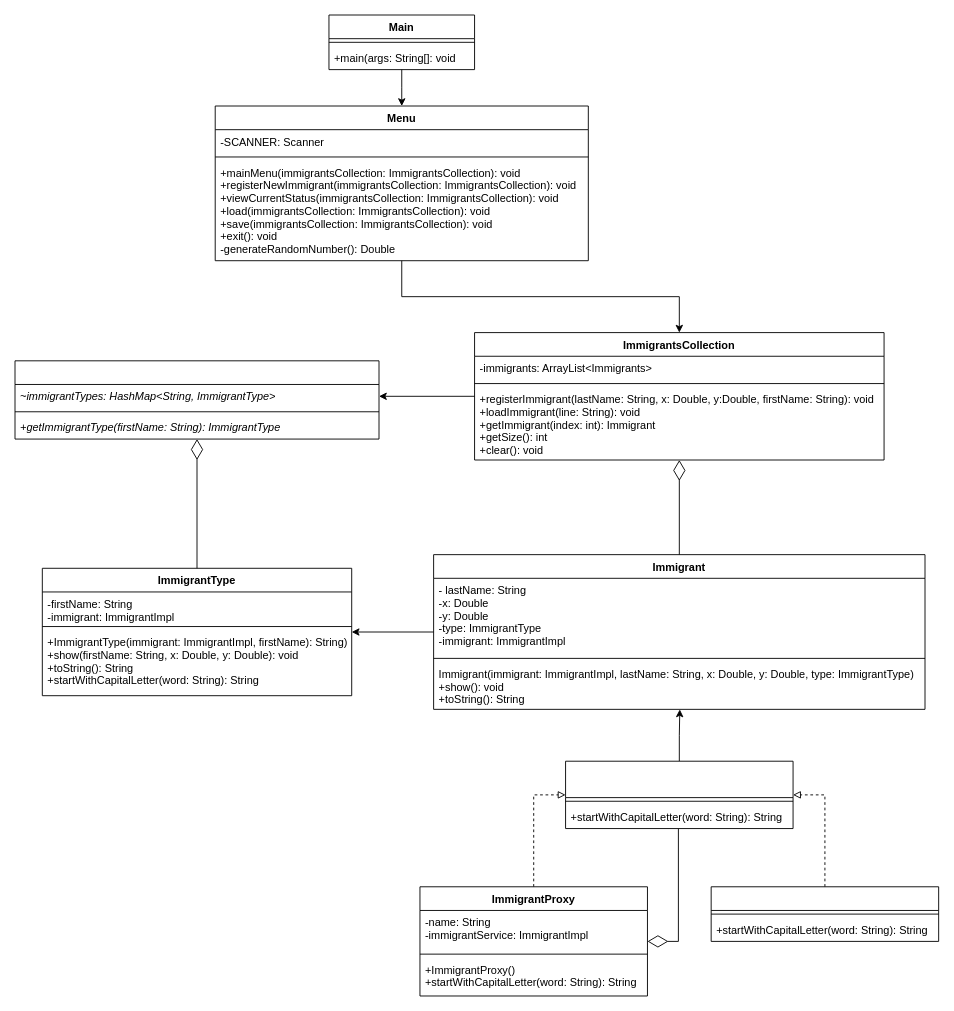
Some shapes in this 954 by 1011 pixel diagram are drawn without their labels. Each missing label, with the box of its shape:
ImmigrantClass: (710, 886, 939, 941)
ImmigrantFactory: (14, 360, 379, 439)
«interface» ImmigrantImpl: (565, 760, 793, 829)
